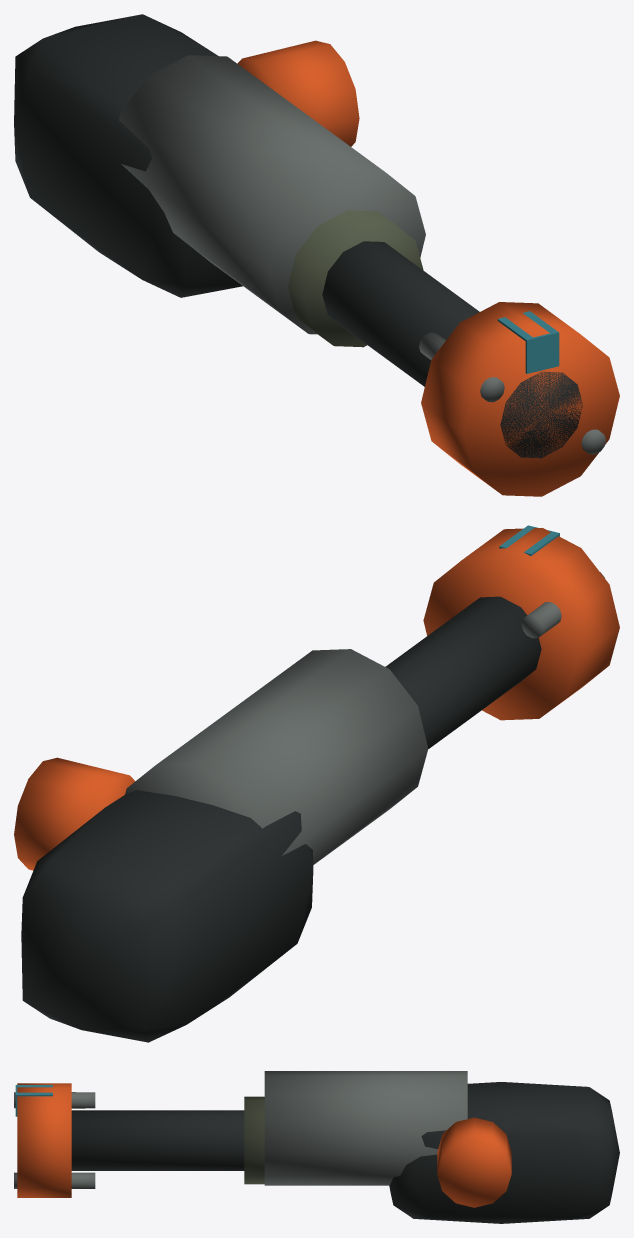
The model's file is Bastion_FlameTrooper_Weapon.obj.
The picture shows the model from 3 angles, top to bottom: view 1: azimuth 30°, elevation 25°; view 2: azimuth 150°, elevation 25°; view 3: azimuth 270°, elevation 25°; orthographic projection. The views are drawn at different scales.
Visible parts, largest first — view 1: PressureBody, GripBody, FlameCageRing, Nozzle, NozzleJacket, Valve, PilotLight, FlameCageTop; view 2: GripBody, PressureBody, FlameCageRing, Nozzle, Valve, FlameCageTop; view 3: PressureBody, GripBody, Nozzle, FlameCageRing, Valve, NozzleJacket, FlameCageBottom, FlameCageTop, PilotLight.
Boxes of the visible parts, x1=… form: PressureBody: x1=118, y1=55, x2=425, y2=334; GripBody: x1=14, y1=14, x2=242, y2=297; FlameCageRing: x1=421, y1=302, x2=619, y2=496; Nozzle: x1=322, y1=241, x2=582, y2=458; NozzleJacket: x1=288, y1=210, x2=423, y2=347; Valve: x1=237, y1=40, x2=359, y2=146; PilotLight: x1=497, y1=311, x2=559, y2=373; FlameCageTop: x1=419, y1=332, x2=504, y2=402; GripBody: x1=21, y1=790, x2=313, y2=1042; PressureBody: x1=125, y1=649, x2=428, y2=864; FlameCageRing: x1=423, y1=528, x2=619, y2=720; Nozzle: x1=385, y1=596, x2=541, y2=748; Valve: x1=14, y1=757, x2=135, y2=870; FlameCageTop: x1=521, y1=572, x2=604, y2=638; PressureBody: x1=264, y1=1071, x2=467, y2=1185; GripBody: x1=389, y1=1082, x2=619, y2=1223; Nozzle: x1=71, y1=1110, x2=244, y2=1170; FlameCageRing: x1=17, y1=1083, x2=71, y2=1197; Valve: x1=437, y1=1117, x2=511, y2=1207; NozzleJacket: x1=244, y1=1096, x2=264, y2=1184; FlameCageBottom: x1=14, y1=1172, x2=95, y2=1188; FlameCageTop: x1=14, y1=1092, x2=95, y2=1108; PilotLight: x1=15, y1=1085, x2=52, y2=1116.
Size of the model in its own units: 0.25 by 0.215 by 0.895.
1 material, 1 textured.
